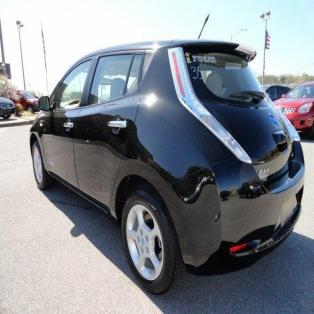Auto: (29, 37, 306, 298)
